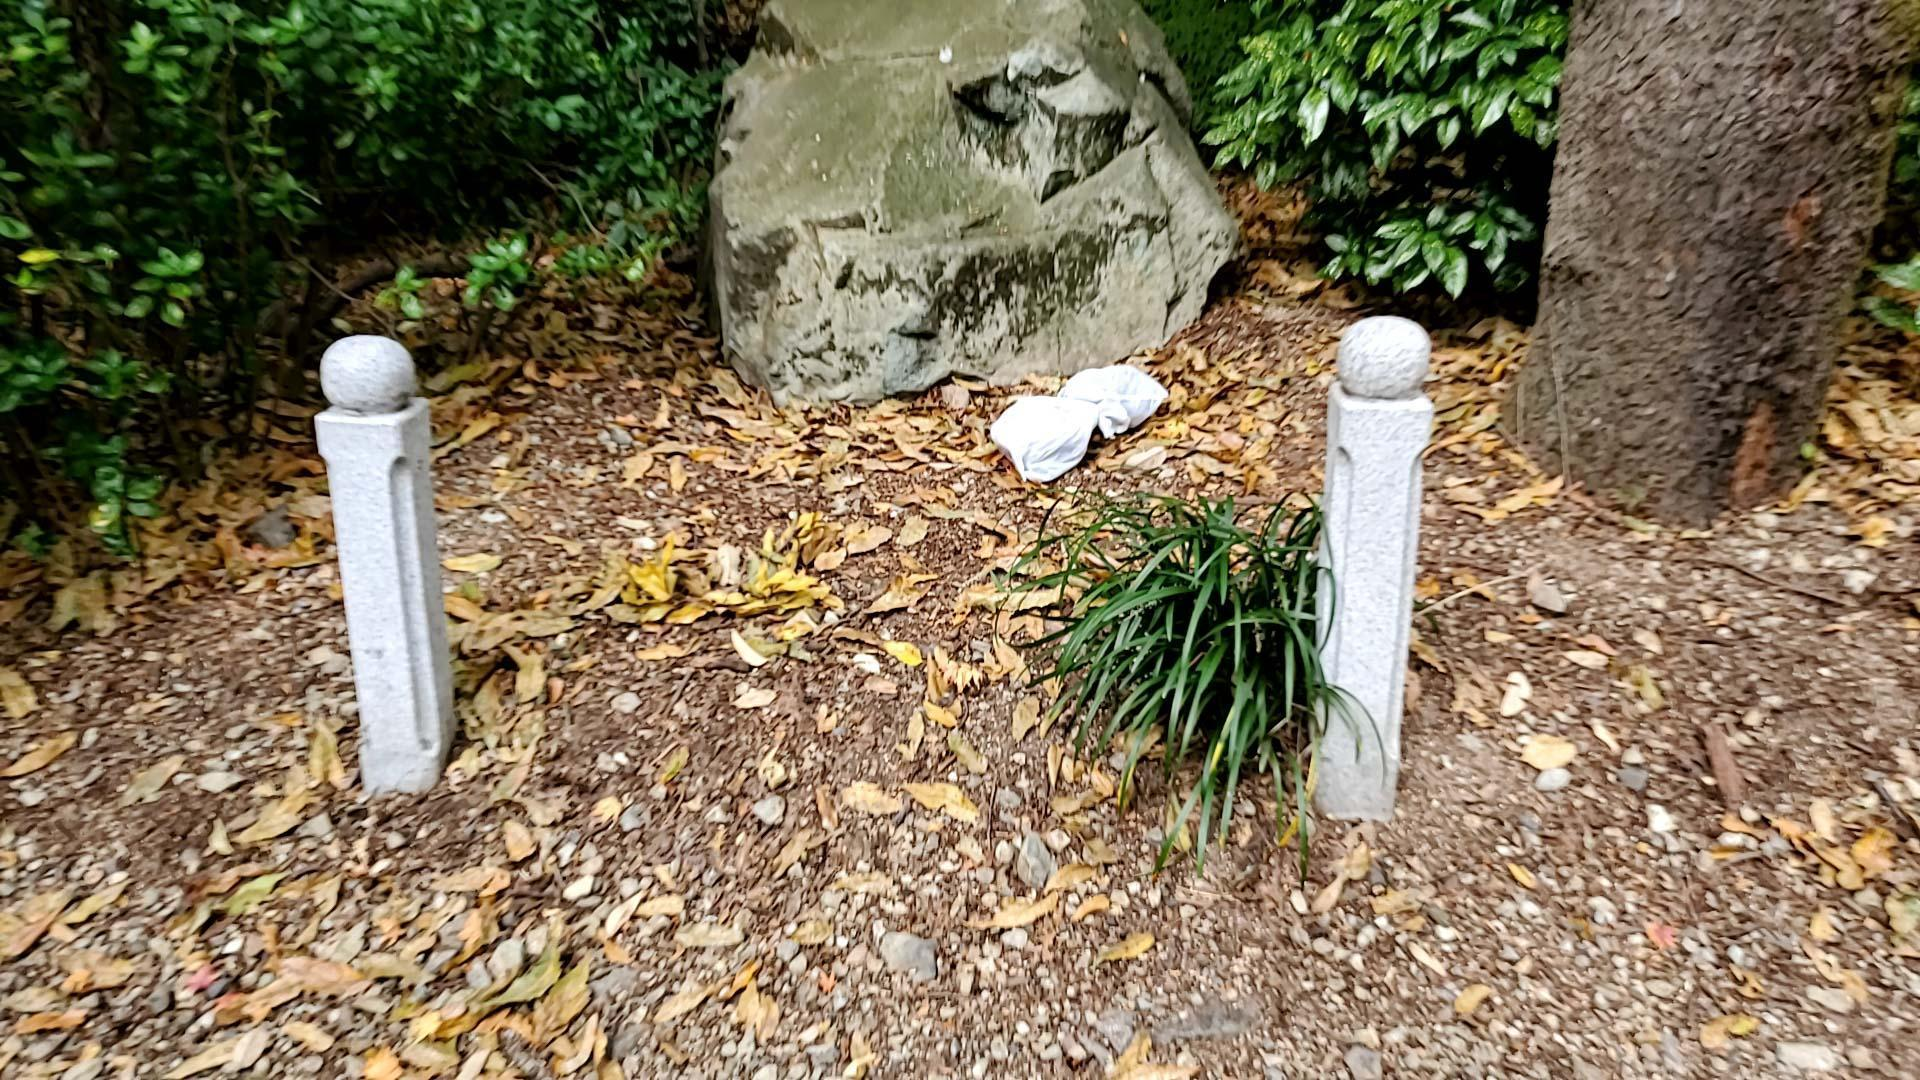white_bag: (978, 393, 1131, 477), (1048, 363, 1170, 434)
